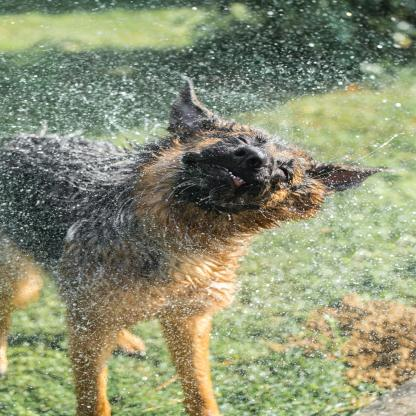german shepherd: (0, 75, 370, 416)
